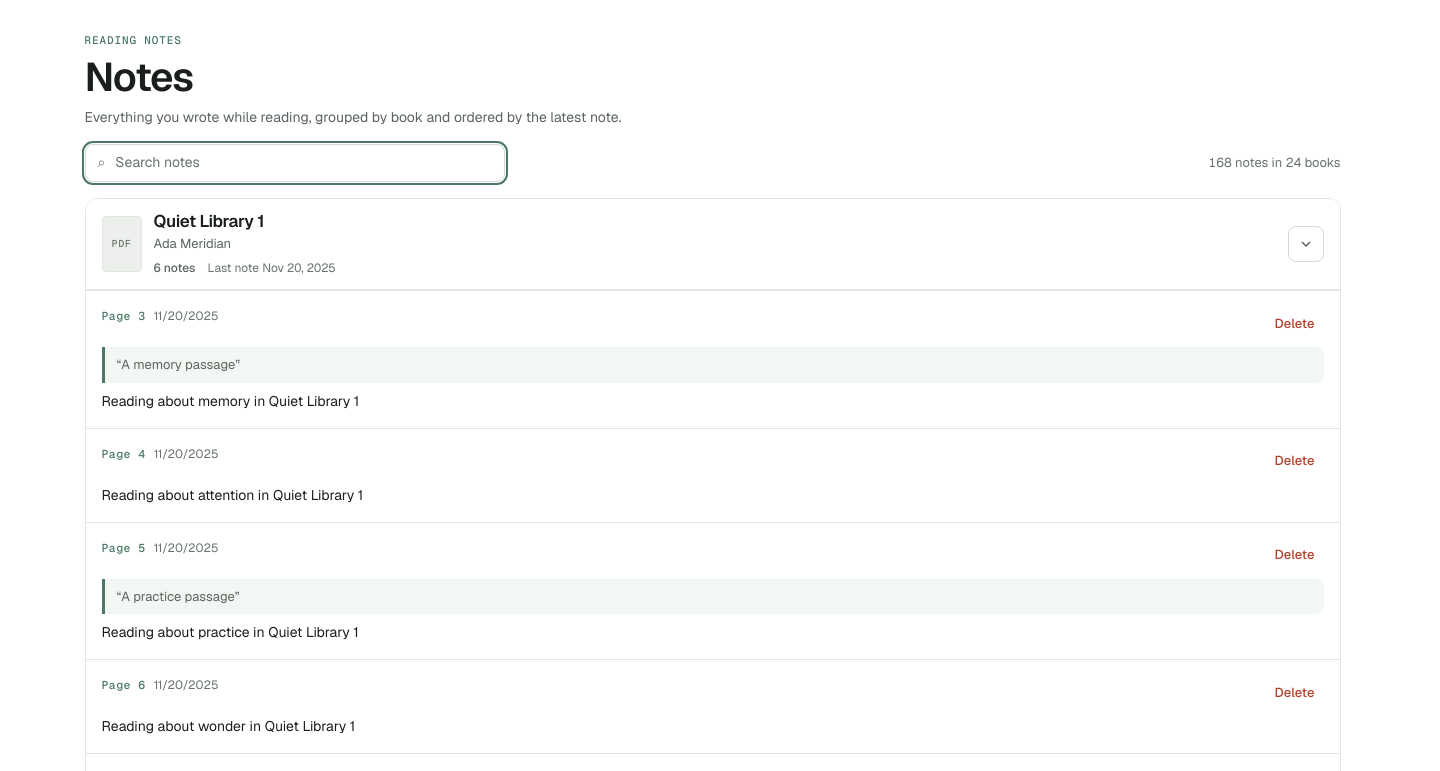
Test: NotesPage groups › filters groups and notes with q and expands groups while searching
Click the button named "Collapse notes for Quiet Library 1" at x=1306, y=244, box [1288,226,1324,262]
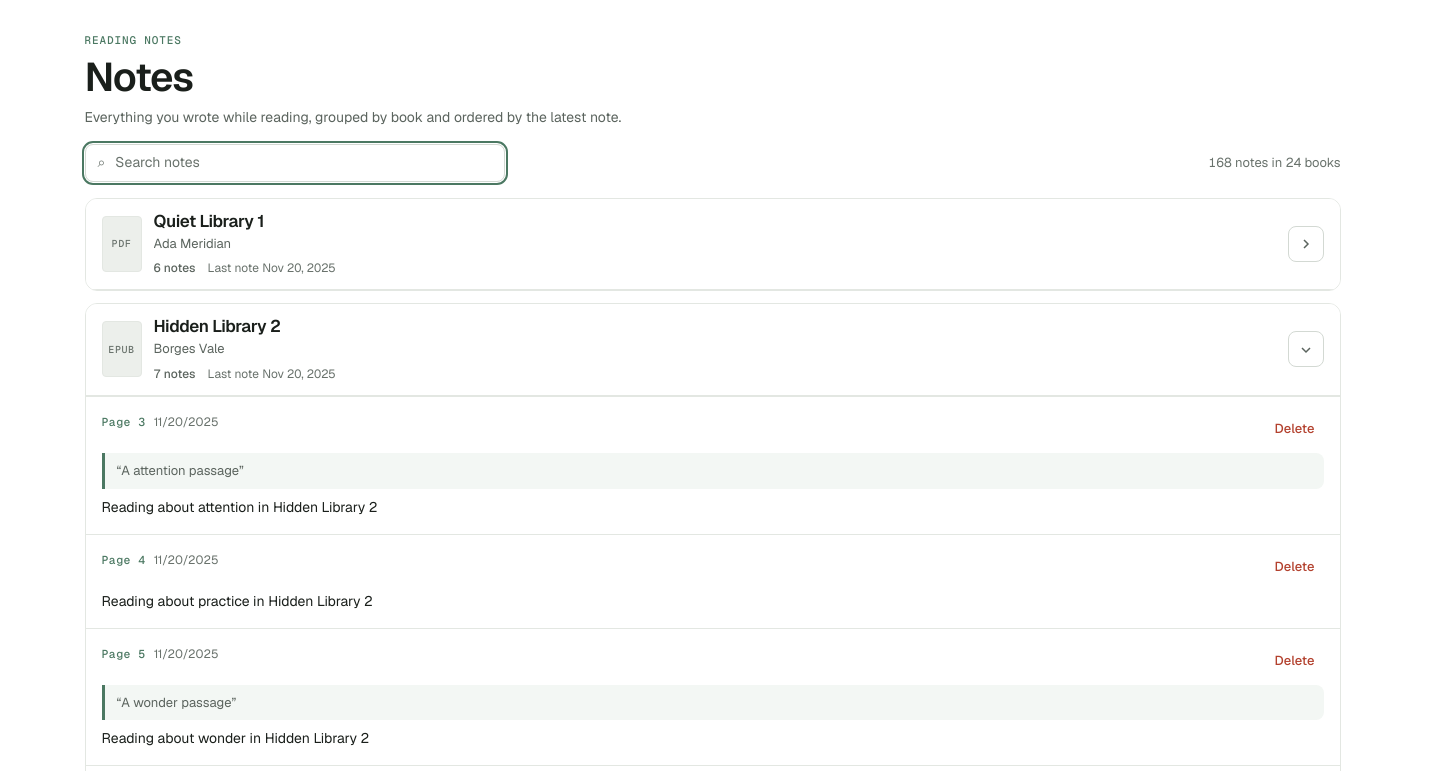
Expected: the text "Reading about memory in Quiet Library 1" is gone
Type "Quiet Library 1" into the field named "Search notes" at x=302, y=162, box [113,151,492,174]
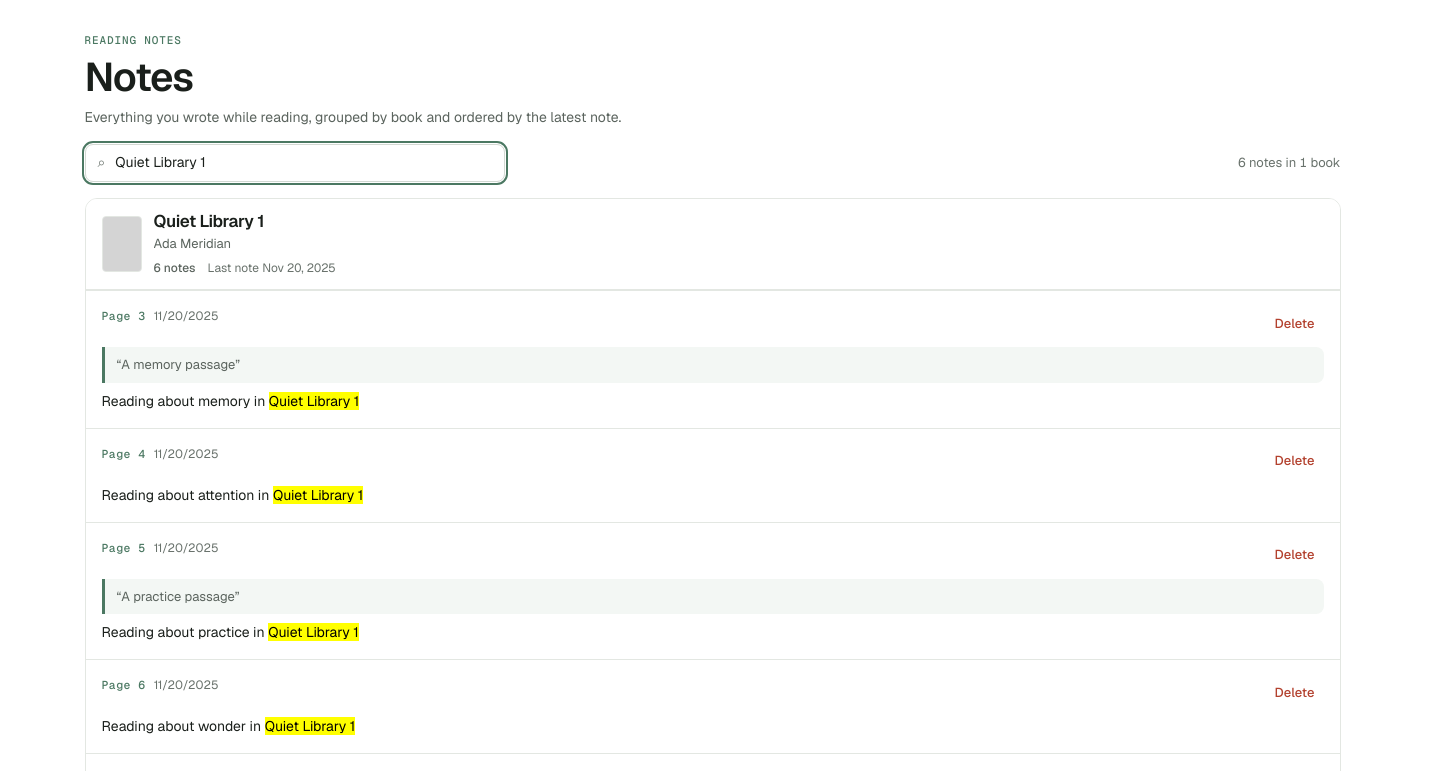
Expected: the text "Reading about memory in Quiet Library 1" is shown, [102,392,359,410]
Expected: the text "Quiet Library 1" next to "Reading about memory in" is shown, [269,392,359,410]
Clear the field named "Search notes" at x=302, y=162, box [113,151,492,174]
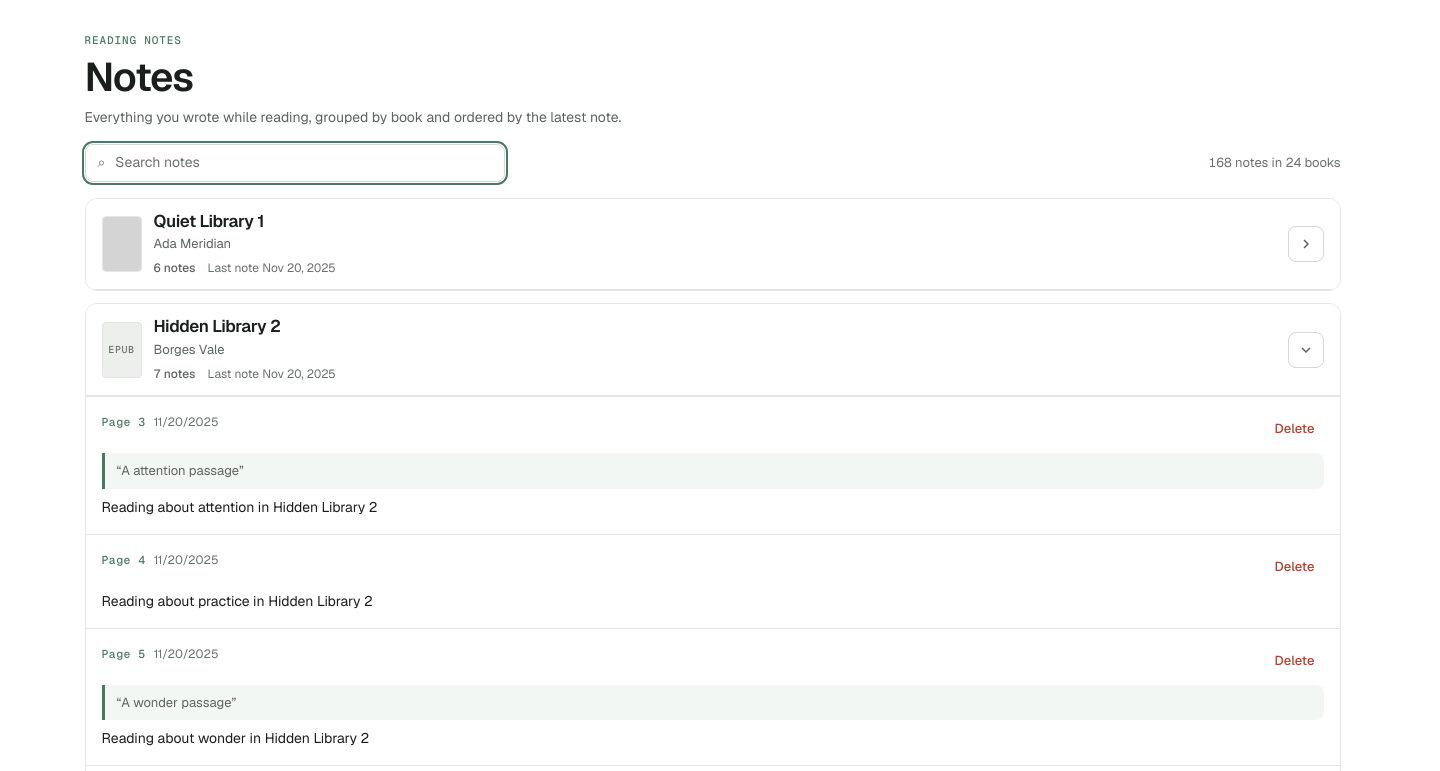
Expected: the button named "Expand notes for Quiet Library 1" is shown, [1288,226,1324,262]
Expected: the text "Reading about memory in Quiet Library 1" is gone
